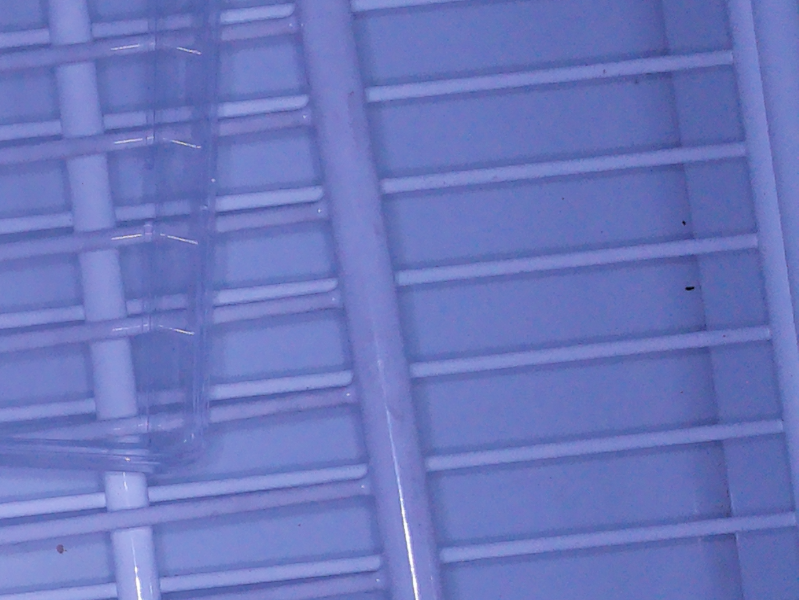plate: (1, 1, 226, 475)
